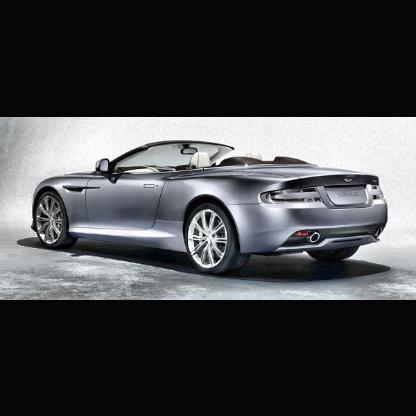Aston Martin Virage Convertible 2012: (30, 139, 393, 280)
